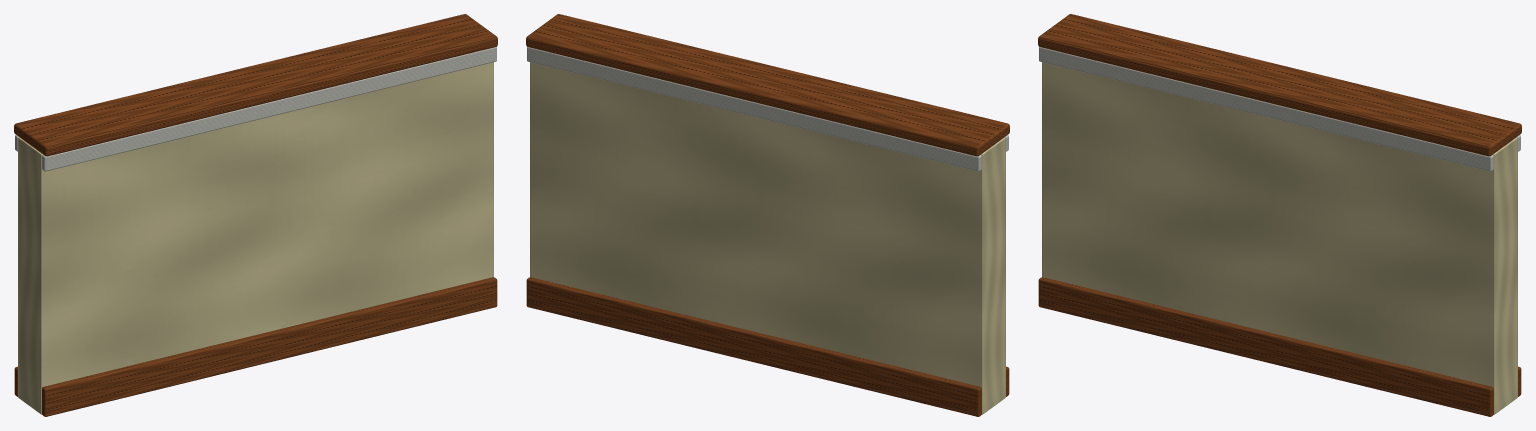
File: three-d-liminal-spaces-kit-liminal-spaces-kit-half-wall-09462c1d.glb
3 views of the same model, side by side, from view 1: azimuth 30°, elevation 25°; view 2: azimuth 150°, elevation 25°; view 3: azimuth 330°, elevation 25° (orthographic).
Visible parts, largest first — view 1: half-wall; view 2: half-wall; view 3: half-wall.
Part boxes in pixels (x1,y1,x2,y2): half-wall: (14,14,497,416); half-wall: (526,14,1009,416); half-wall: (1038,14,1521,416).
Bounding box in the file's own units: 2 × 1.14 × 0.25.
3 materials, 3 textured.
